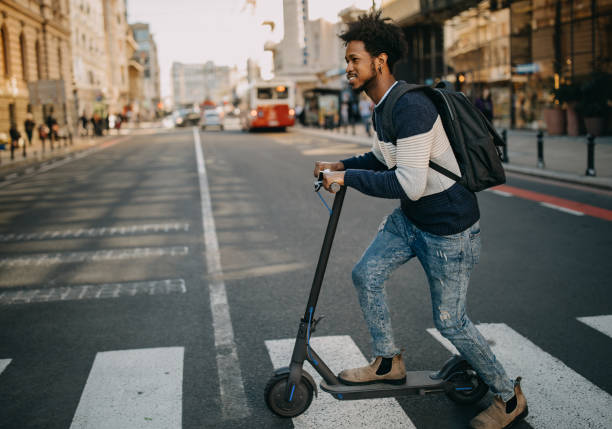yaya: (272, 5, 562, 428)
